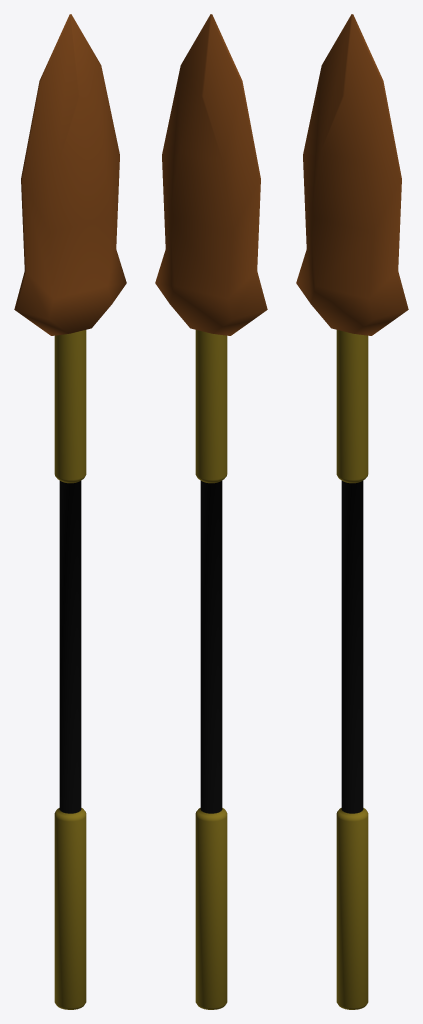
File: Spear_Rust.fbx
3 renders of one model, left to right at view 1: azimuth 30°, elevation 25°; view 2: azimuth 150°, elevation 25°; view 3: azimuth 330°, elevation 25°, orthographic.
Parts seen in each view (by area): view 1: Spear_Rust; view 2: Spear_Rust; view 3: Spear_Rust.
Part boxes in pixels (x1,y1,x2,y2): Spear_Rust: (14,14,126,1009); Spear_Rust: (155,14,267,1009); Spear_Rust: (296,14,408,1009).
Bounding box in the file's own units: 203 × 1715 × 63.47.
